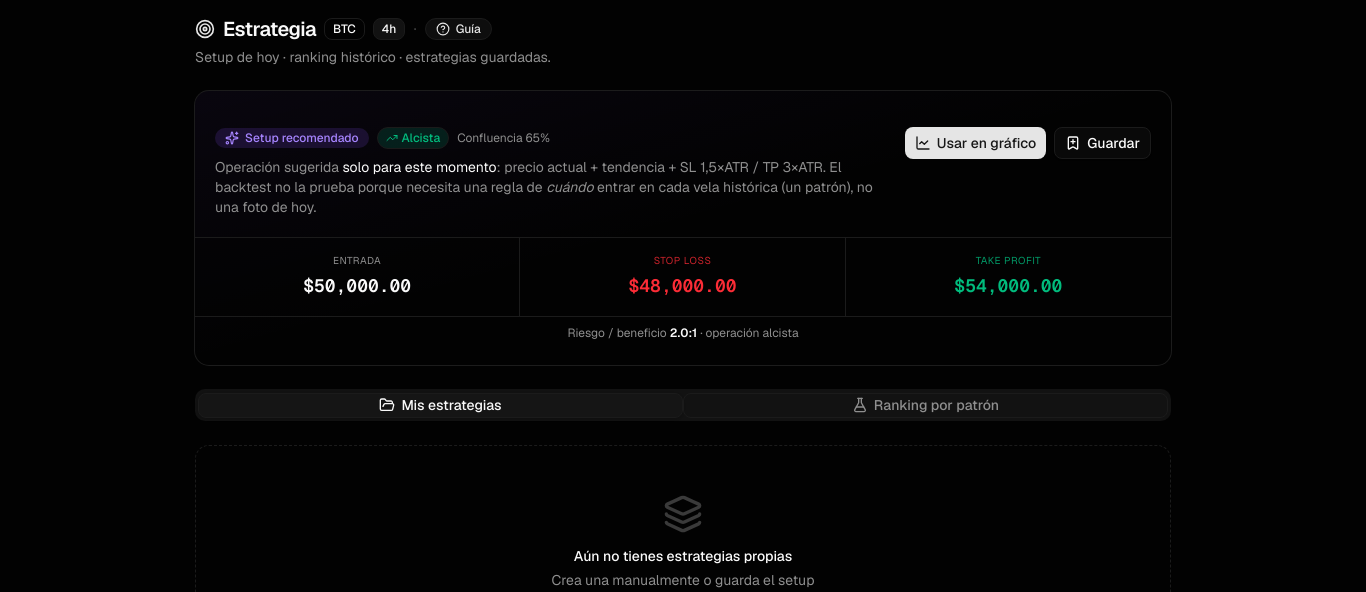
it: StrategyPage › shows backtest metrics in grid tab
The image size is (1366, 592).
Click the tab "Ranking por patrón" at (926, 405), box x1=683 y1=393 x2=1168 y2=418
(page scrolled)
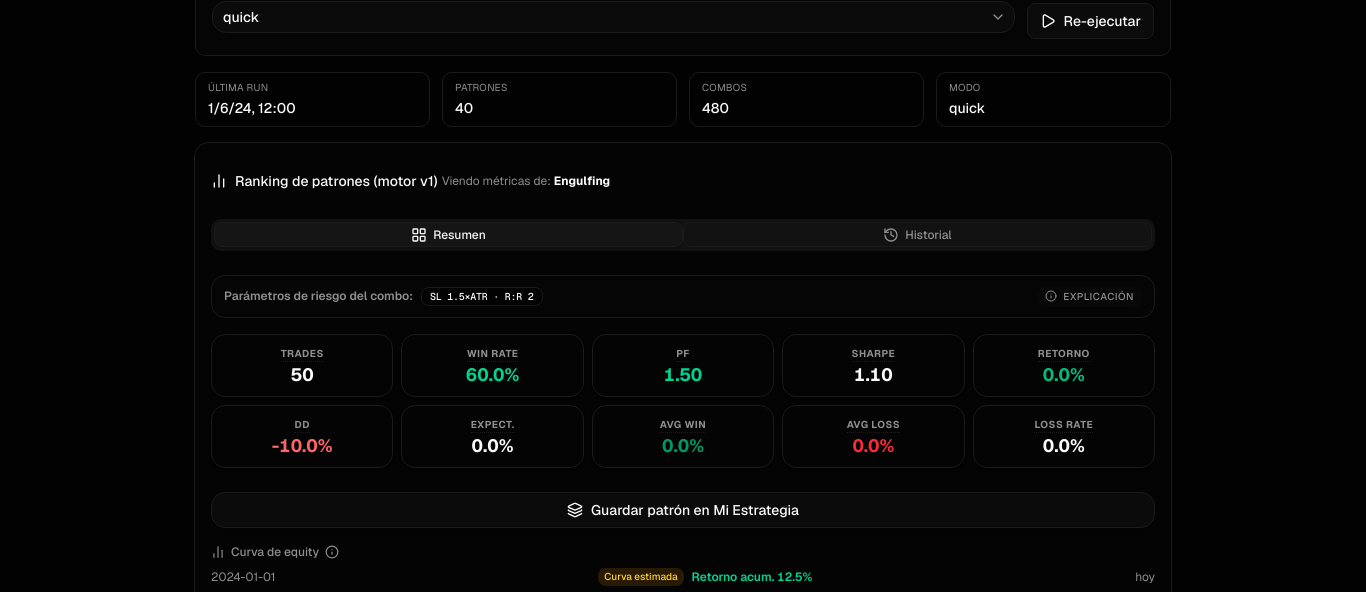
Now the text "50" is shown, box x1=291 y1=366 x2=314 y2=384
